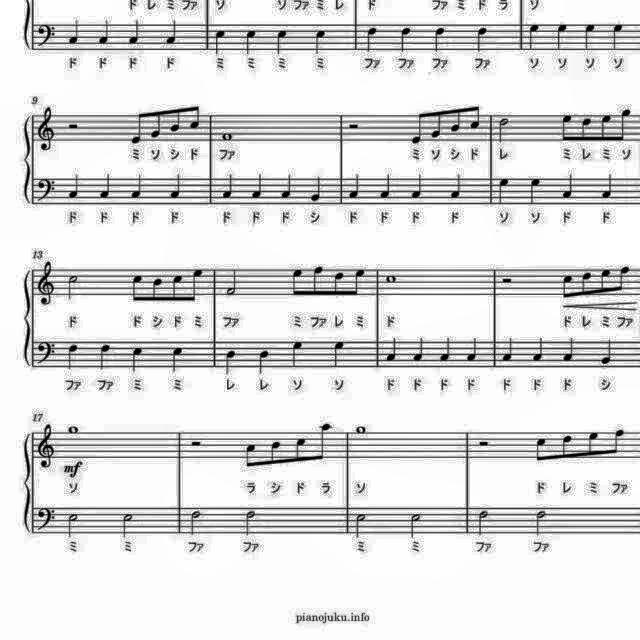Bass-clef: (34, 503, 58, 533), (34, 20, 58, 50), (34, 338, 58, 367), (34, 174, 58, 202)
Eighth-note: (316, 418, 336, 462), (129, 106, 147, 146), (409, 106, 427, 146), (188, 266, 205, 306), (129, 268, 147, 304), (266, 438, 286, 470), (618, 106, 634, 146), (240, 438, 260, 470), (534, 432, 554, 464), (290, 434, 308, 468), (350, 265, 368, 299), (310, 263, 326, 299), (609, 428, 627, 460), (288, 264, 304, 300), (170, 269, 186, 303), (428, 108, 444, 142), (186, 98, 202, 132), (148, 108, 164, 142), (558, 112, 574, 146), (558, 432, 576, 462), (618, 262, 634, 294), (596, 265, 612, 297), (586, 428, 602, 460), (598, 111, 614, 143), (448, 102, 464, 134), (168, 102, 184, 134), (466, 100, 482, 132), (580, 268, 596, 298), (148, 275, 164, 305), (332, 268, 348, 298), (560, 272, 576, 302), (580, 116, 596, 144)
Full-note: (62, 421, 84, 439), (384, 272, 401, 288), (218, 130, 235, 146), (352, 423, 368, 437)
Half-note: (223, 265, 241, 299), (65, 270, 83, 302), (495, 114, 513, 146), (475, 507, 493, 538), (185, 507, 203, 538), (531, 508, 549, 538), (352, 511, 370, 541), (407, 510, 425, 540), (118, 510, 136, 540), (241, 508, 259, 538), (66, 510, 82, 540)
Half-rest: (64, 116, 82, 132), (186, 437, 204, 451), (346, 118, 362, 132), (475, 438, 493, 450), (498, 274, 514, 286)
Quarter-note: (495, 175, 513, 207), (287, 338, 305, 370), (526, 174, 544, 206), (525, 20, 543, 52), (97, 340, 115, 372), (331, 338, 349, 370), (610, 20, 628, 52), (597, 337, 615, 368), (218, 171, 236, 201), (396, 24, 414, 54), (361, 24, 379, 54), (240, 25, 258, 55), (599, 171, 617, 201), (448, 171, 466, 201), (430, 25, 448, 55), (162, 17, 180, 47), (306, 177, 324, 207), (473, 23, 491, 53), (169, 343, 187, 373), (582, 21, 598, 53), (67, 174, 83, 206), (274, 24, 290, 56), (554, 20, 570, 52), (64, 342, 80, 374), (248, 170, 264, 202), (168, 171, 185, 201), (409, 171, 426, 201), (255, 347, 273, 375), (212, 26, 228, 56), (312, 26, 328, 56), (560, 171, 576, 201), (128, 17, 144, 47), (130, 174, 146, 204), (346, 174, 362, 204), (98, 171, 114, 201), (130, 343, 146, 373), (67, 16, 83, 46), (278, 171, 294, 201), (378, 171, 394, 201), (384, 336, 401, 364), (222, 347, 238, 375), (97, 18, 113, 46), (561, 336, 577, 364), (500, 337, 516, 365), (411, 336, 427, 364), (464, 336, 480, 364), (440, 334, 454, 364), (534, 337, 548, 365)
Treble-clef: (32, 259, 56, 309), (32, 106, 56, 156), (32, 422, 56, 470)
